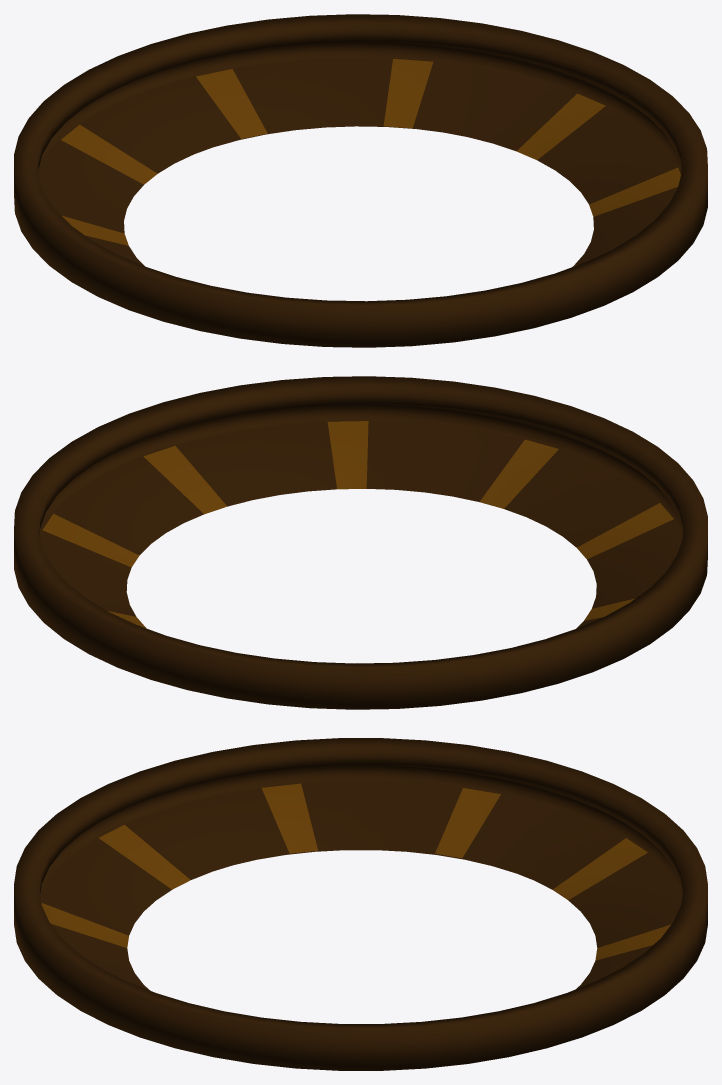
File: Roulette (Outer) Shade Smooth.fbx
The picture shows the model from 3 angles, top to bottom: view 1: azimuth 30°, elevation 25°; view 2: azimuth 150°, elevation 25°; view 3: azimuth 270°, elevation 25°; orthographic projection.
Visible parts, largest first — view 1: Roulette (Outer); view 2: Roulette (Outer); view 3: Roulette (Outer).
Boxes of the visible parts, <box> form: Roulette (Outer): <box>14,14,707,347</box>; Roulette (Outer): <box>14,376,707,709</box>; Roulette (Outer): <box>14,738,707,1070</box>.
Size of the model in its own units: 1315 by 144 by 1318.
